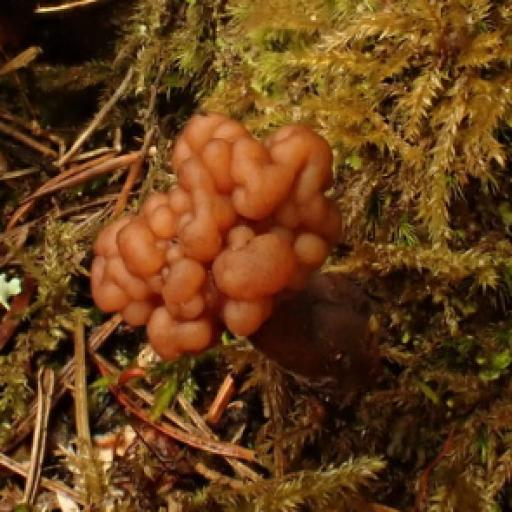False Morel: (93, 110, 394, 372)
